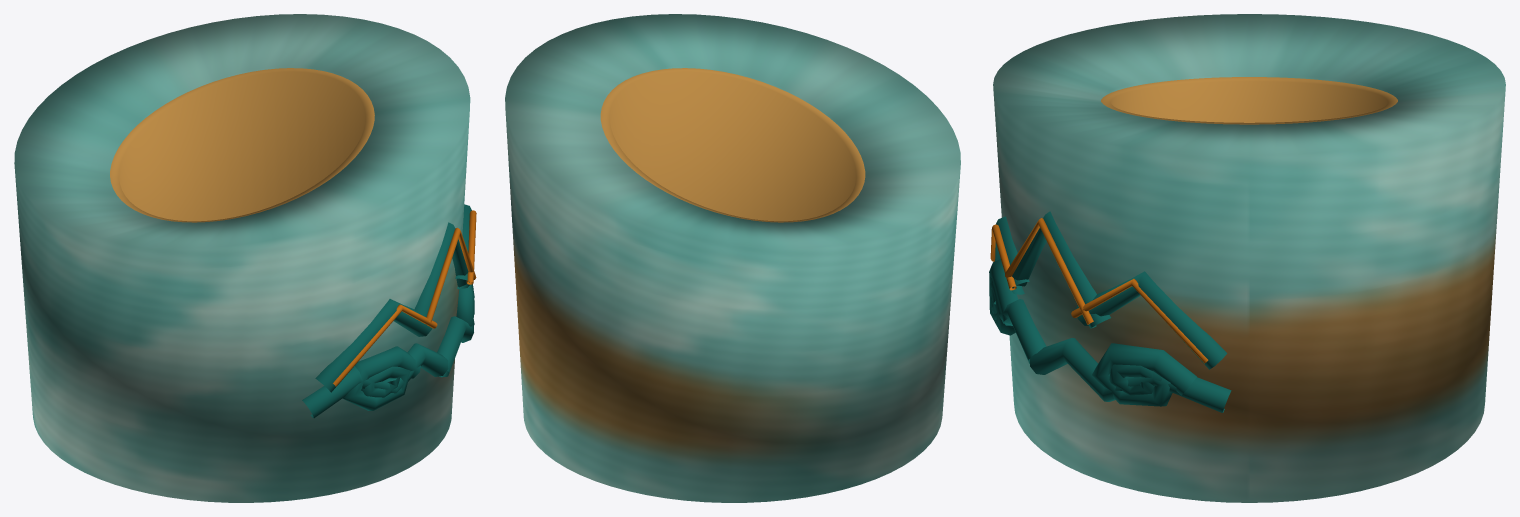
The model's file is banzhi.fbx.
3 views of the same model, side by side, from view 1: azimuth 30°, elevation 25°; view 2: azimuth 150°, elevation 25°; view 3: azimuth 270°, elevation 25° (orthographic). The views are drawn at different scales.
Parts seen in each view (by area): view 1: banzhi; view 2: banzhi; view 3: banzhi.
Part boxes in pixels (x1,y1,x2,y2): banzhi: (14, 14, 476, 502); banzhi: (505, 14, 960, 502); banzhi: (989, 14, 1505, 502).
Size of the model in its own units: 99.55 by 76.15 by 100.
Materials: 1 (1 with a texture image).
